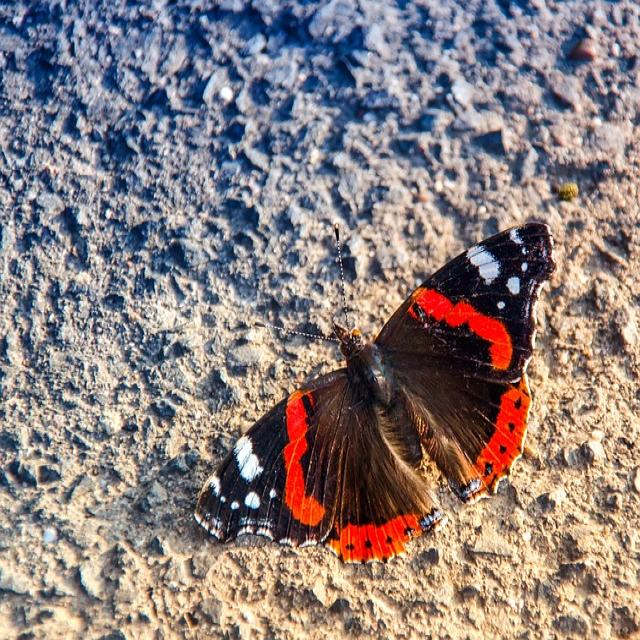butterfly: (192, 220, 554, 565)
